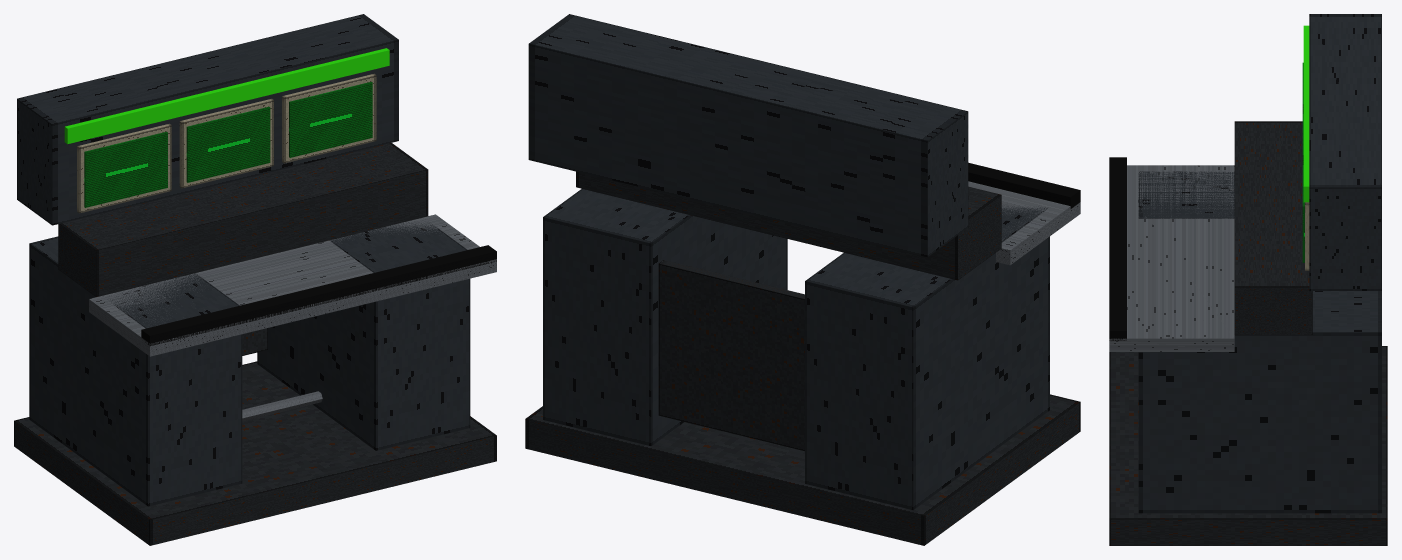
The model's file is reactor_control_console.glb.
3 renders of one model, left to right at view 1: azimuth 30°, elevation 25°; view 2: azimuth 150°, elevation 25°; view 3: azimuth 270°, elevation 25°, orthographic. The views are drawn at different scales.
Visible parts, largest first — view 1: reactor_control_console; view 2: reactor_control_console; view 3: reactor_control_console.
Part boxes in pixels (x1,y1,x2,y2): reactor_control_console: (14,14,496,545); reactor_control_console: (525,14,1080,545); reactor_control_console: (1109,14,1387,545).
Size of the model in its own units: 1.4 by 1.35 by 0.95.
Materials: 1 (1 with a texture image).
